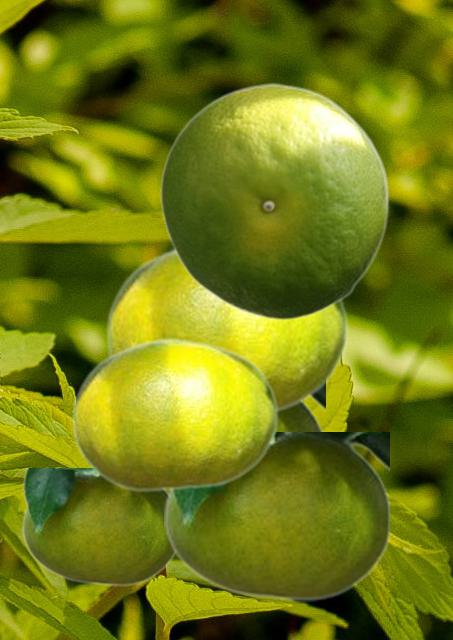dalandan: (159, 82, 388, 320), (105, 245, 347, 415), (164, 432, 388, 600), (71, 337, 277, 492), (22, 468, 176, 585), (278, 388, 324, 431)
